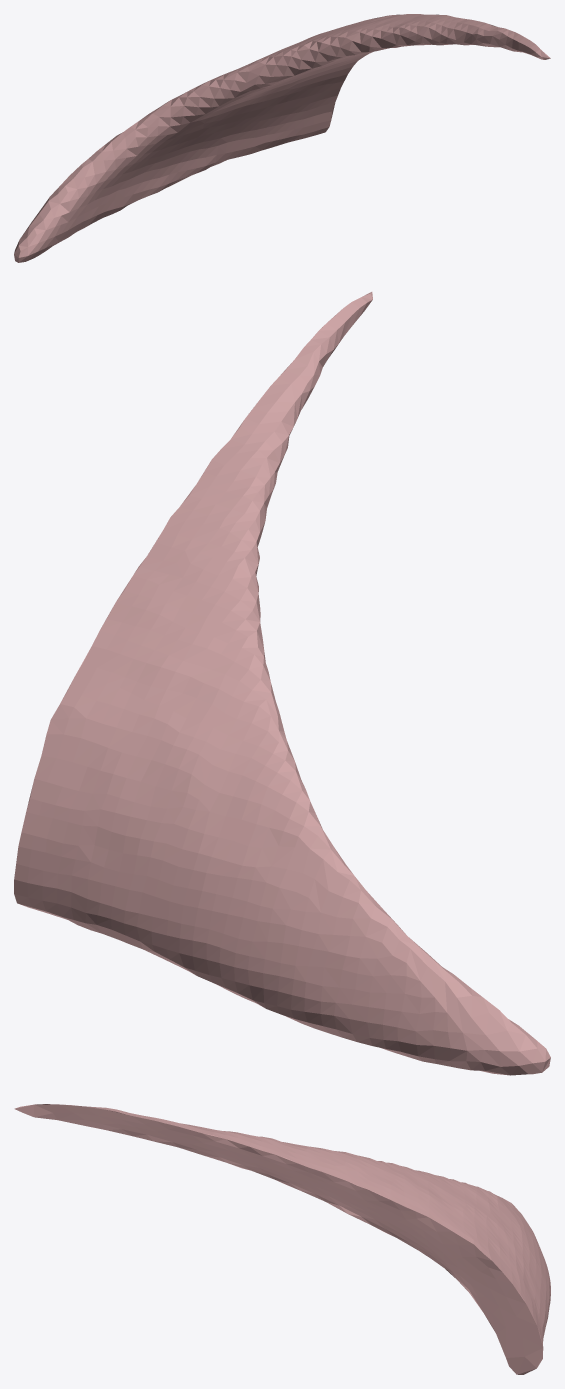
Rendered from Commissure_of_fornix1.obj.
The picture shows the model from 3 angles, top to bottom: view 1: azimuth 30°, elevation 25°; view 2: azimuth 150°, elevation 25°; view 3: azimuth 270°, elevation 25°; orthographic projection. The views are drawn at different scales.
Visible parts, largest first — view 1: obj0; view 2: obj0; view 3: obj0.
Part boxes in pixels (x1,y1,x2,y2): obj0: [14, 14, 550, 262]; obj0: [14, 292, 550, 1075]; obj0: [14, 1104, 550, 1374].
Size of the model in its own units: 16.55 by 13.82 by 20.97.
Materials: 1 (1 with a texture image).
